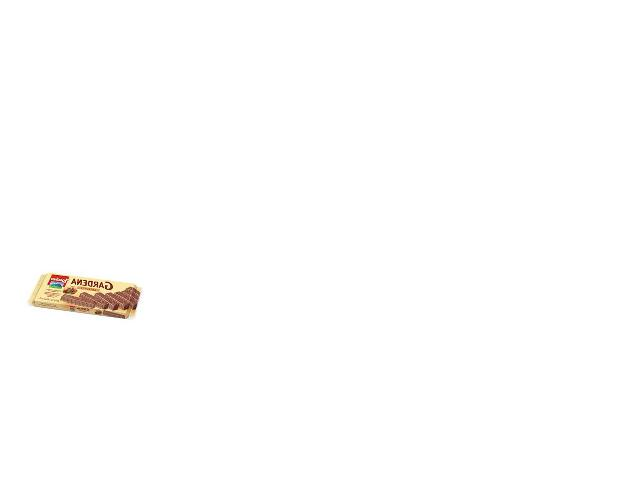chocolate: (24, 271, 147, 314)
